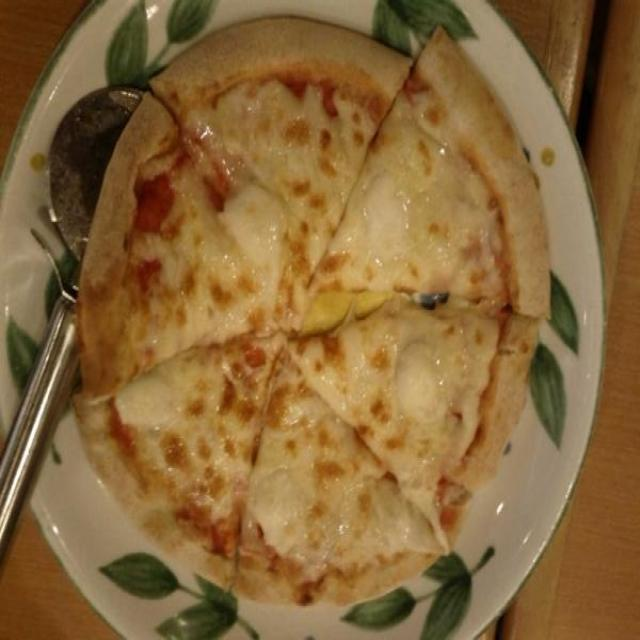Pizza: (76, 31, 556, 610)
